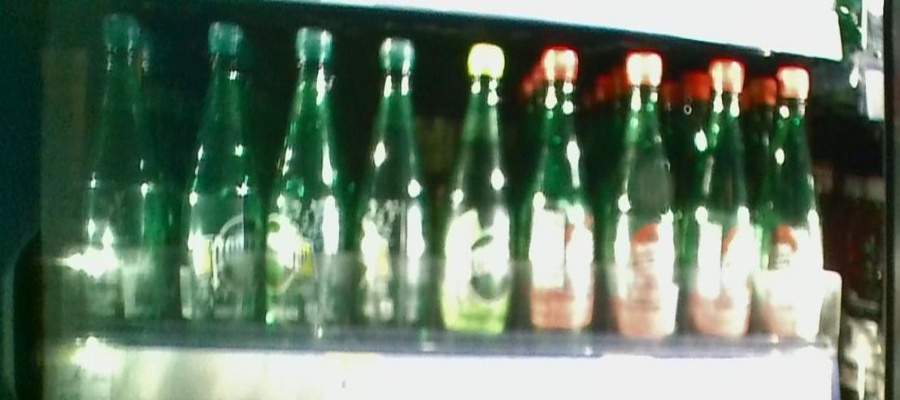bottle: (86, 8, 168, 329), (268, 18, 350, 336), (181, 16, 262, 331), (440, 31, 519, 346), (524, 38, 599, 342), (361, 32, 432, 340), (610, 50, 683, 342), (760, 66, 825, 339), (692, 61, 753, 341)
